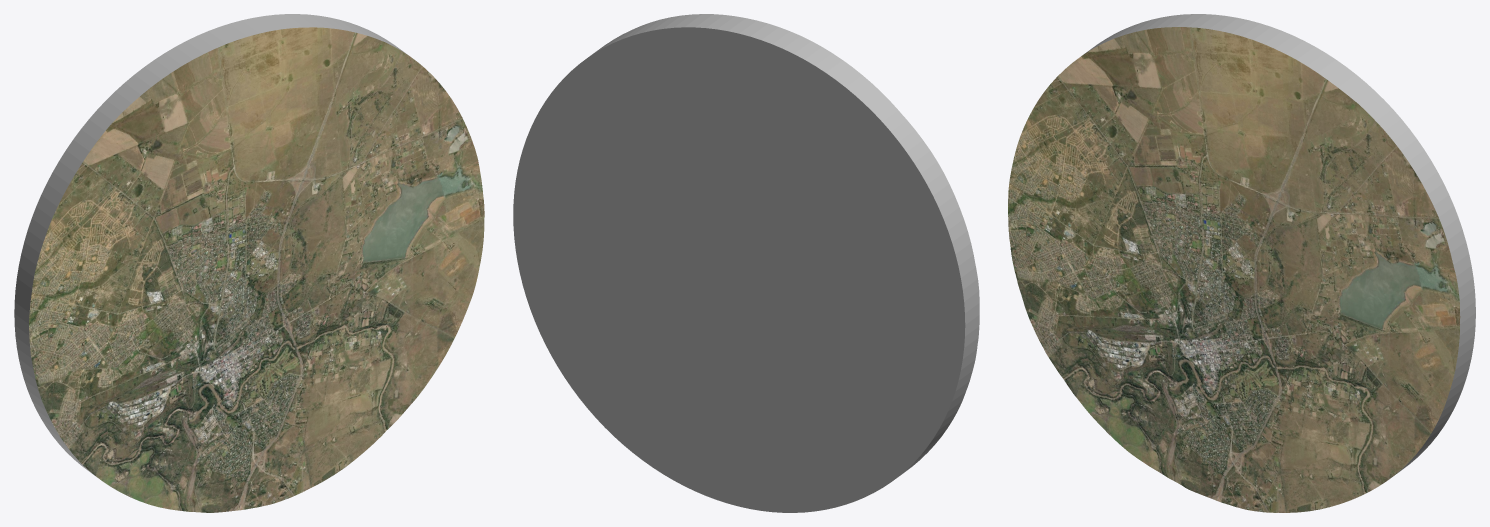
The model's file is kroonstad.glb.
The picture shows the model from 3 angles, left to right: view 1: azimuth 30°, elevation 25°; view 2: azimuth 150°, elevation 25°; view 3: azimuth 330°, elevation 25°; orthographic projection.
Bounding box in the file's own units: 200 × 200 × 14.1.
2 materials, 1 textured.
